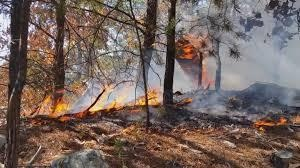fire: (20, 82, 83, 122), (250, 110, 299, 129)
